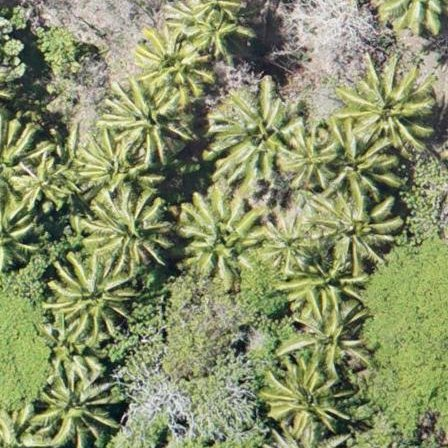palm_tree: (173, 181, 268, 282), (341, 57, 429, 151), (309, 191, 401, 276), (46, 249, 131, 340), (213, 88, 299, 175), (32, 359, 115, 448), (260, 352, 342, 438), (86, 179, 166, 265), (132, 30, 207, 102), (325, 135, 401, 205), (106, 82, 176, 155), (294, 302, 366, 372), (275, 127, 337, 187), (17, 159, 70, 216), (447, 158, 448, 176)
